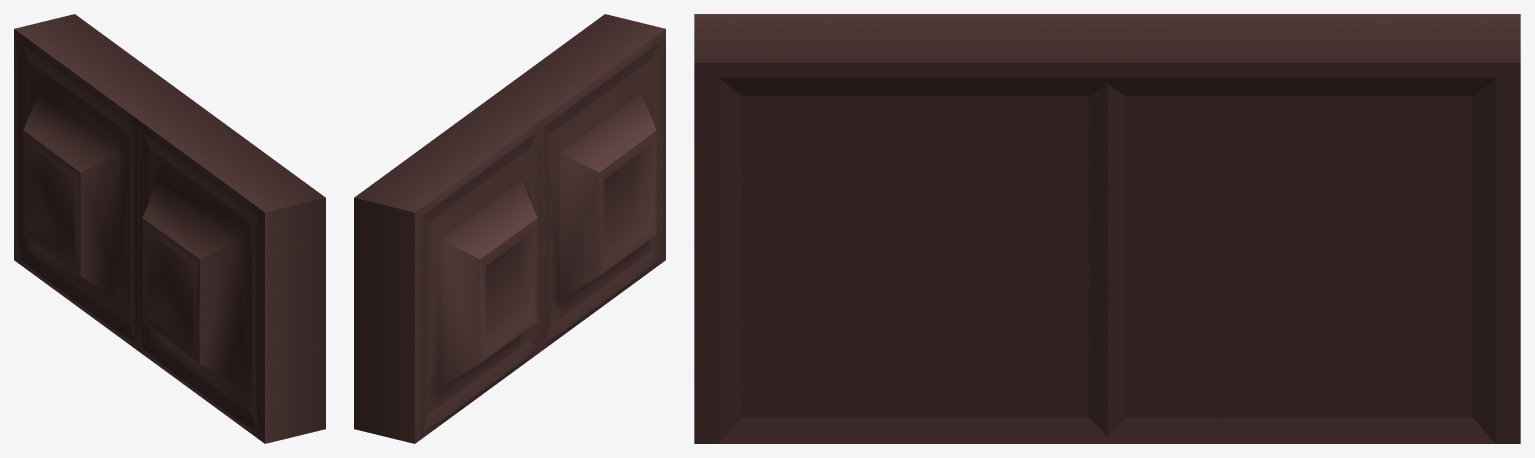
File: HPart_Choco_Double_Whole.fbx
3 views of the same model, side by side, from view 1: azimuth 30°, elevation 25°; view 2: azimuth 150°, elevation 25°; view 3: azimuth 270°, elevation 25° (orthographic). The views are drawn at different scales.
Parts seen in each view (by area): view 1: choco2; view 2: choco2; view 3: choco2.
Part boxes in pixels (bbox=[...]): choco2: bbox=[14, 14, 325, 443]; choco2: bbox=[354, 14, 665, 443]; choco2: bbox=[694, 14, 1520, 443].
Size of the model in its own units: 0.4575 by 1.14 by 2.24.
